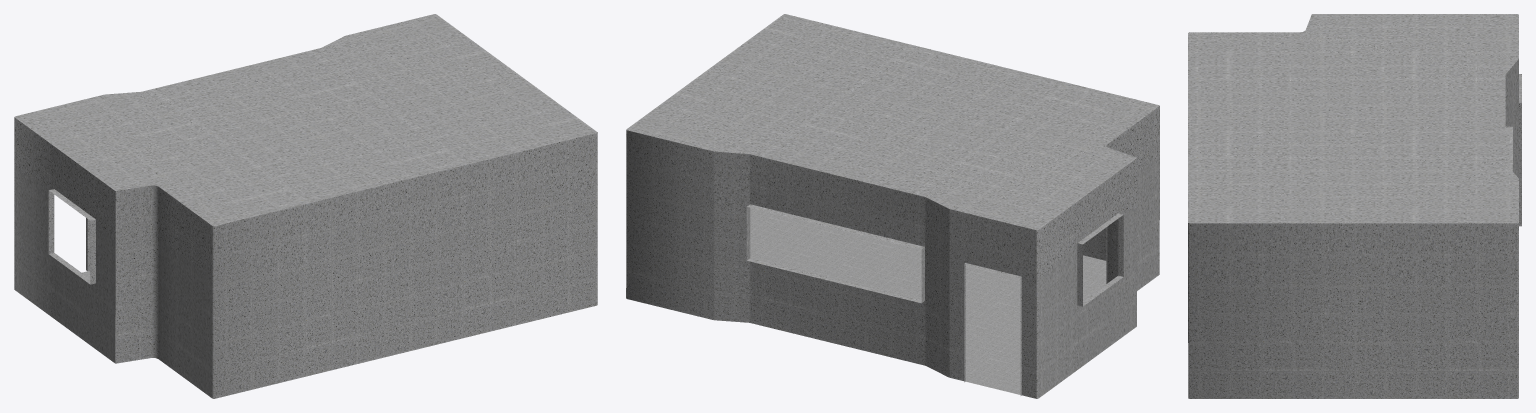
Rendered from room_03_blocker3.fbx.
3 views of the same model, side by side, from view 1: azimuth 30°, elevation 25°; view 2: azimuth 150°, elevation 25°; view 3: azimuth 270°, elevation 25° (orthographic). The views are drawn at different scales.
Parts seen in each view (by area): view 1: room_03_full_blocker; view 2: room_03_full_blocker; view 3: room_03_full_blocker.
Part boxes in pixels (bbox=[...]): room_03_full_blocker: bbox=[14, 14, 597, 398]; room_03_full_blocker: bbox=[626, 14, 1159, 398]; room_03_full_blocker: bbox=[1188, 14, 1521, 398].
Bounding box in the file's own units: 319 × 123 × 212.
